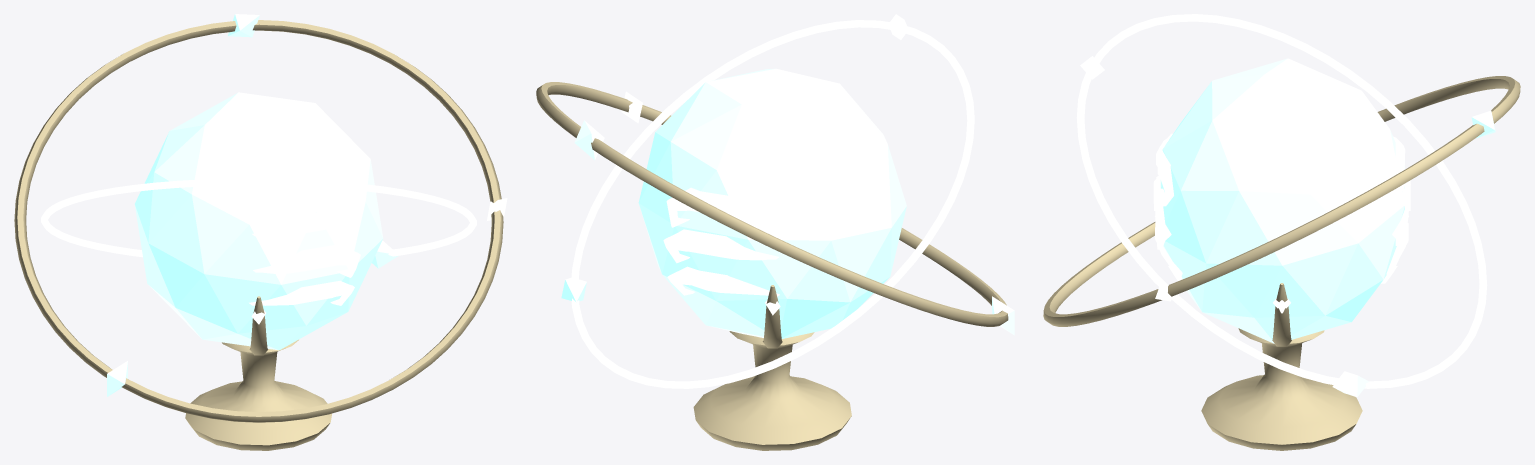
Rendered from airah_orbital.glb.
3 renders of one model, left to right at view 1: azimuth 30°, elevation 25°; view 2: azimuth 150°, elevation 25°; view 3: azimuth 270°, elevation 25°, orthographic. The views are drawn at different scales.
Visible parts, largest first — view 1: airah_orbital; view 2: airah_orbital; view 3: airah_orbital.
Boxes of the visible parts, left/top/right/bottom form: airah_orbital: left=14, top=14, right=507, bottom=450; airah_orbital: left=536, top=14, right=1014, bottom=450; airah_orbital: left=1043, top=14, right=1520, bottom=450.
Bounding box in the file's own units: 0.315 × 0.2359 × 0.2923.
